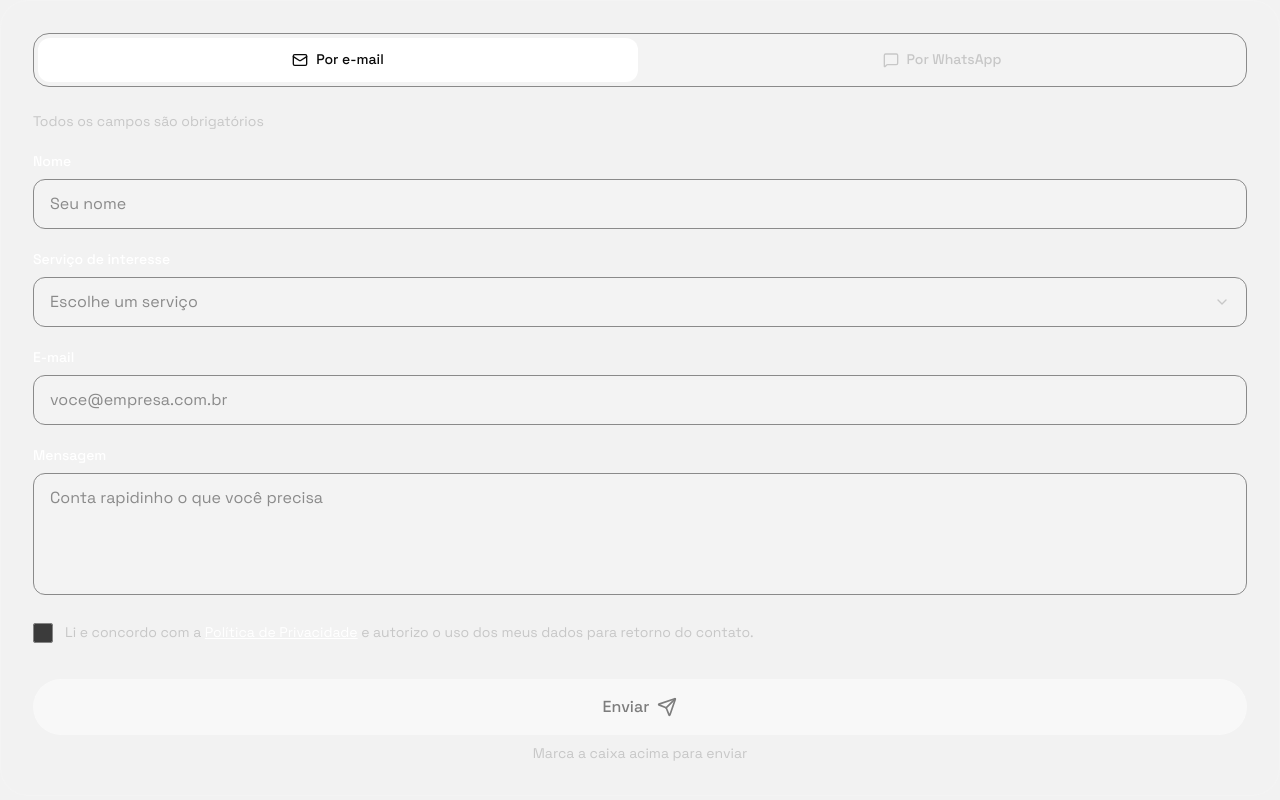
Scenario: ContactForm sending, success and error › says Enviando… and marks the button busy while the request is out
This screenshot has width=1280, height=800.
In the field labelled "Nome": (640, 204) top-left (33, 179), bottom-right (1247, 229), type "Ana Lima"
Click the button "Escolhe um serviço": click(124, 302) top-left (33, 277), bottom-right (1247, 327)
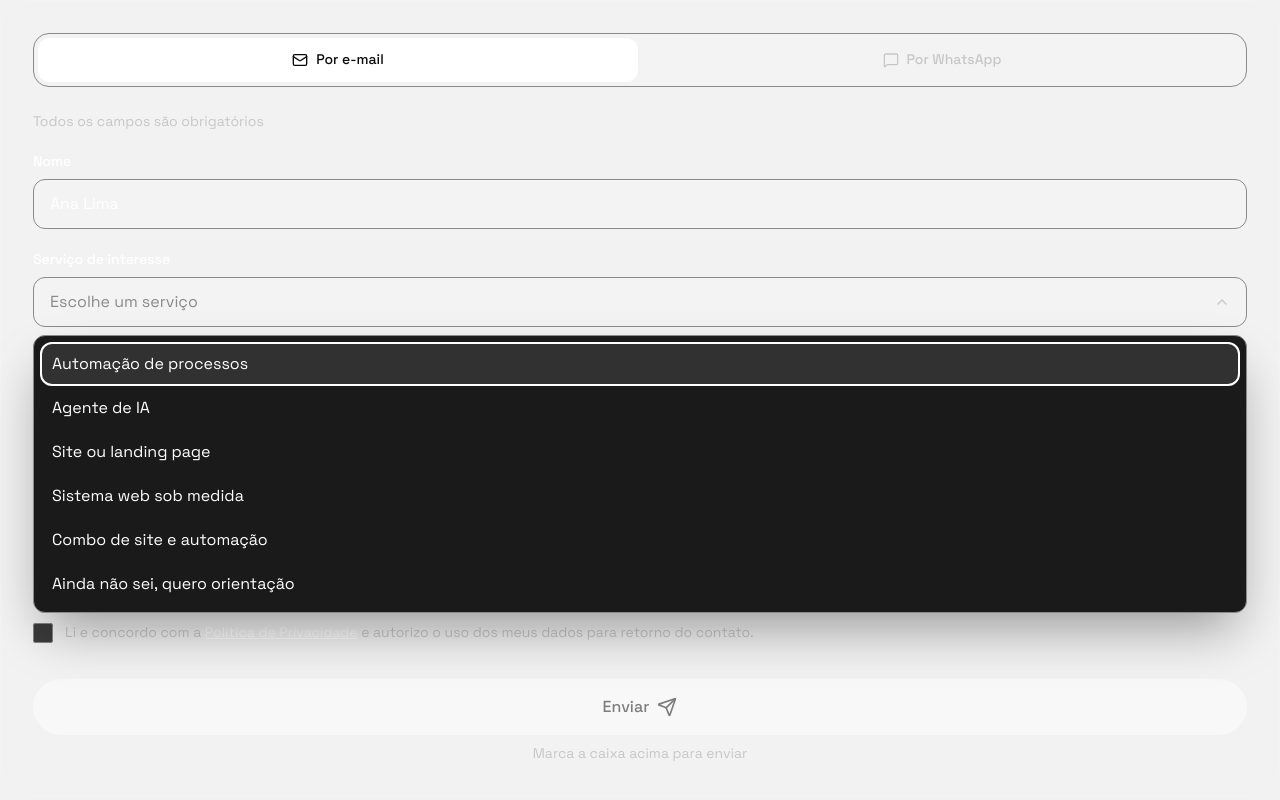
Click the option "Automação de processos": click(150, 364) top-left (40, 342), bottom-right (1240, 386)
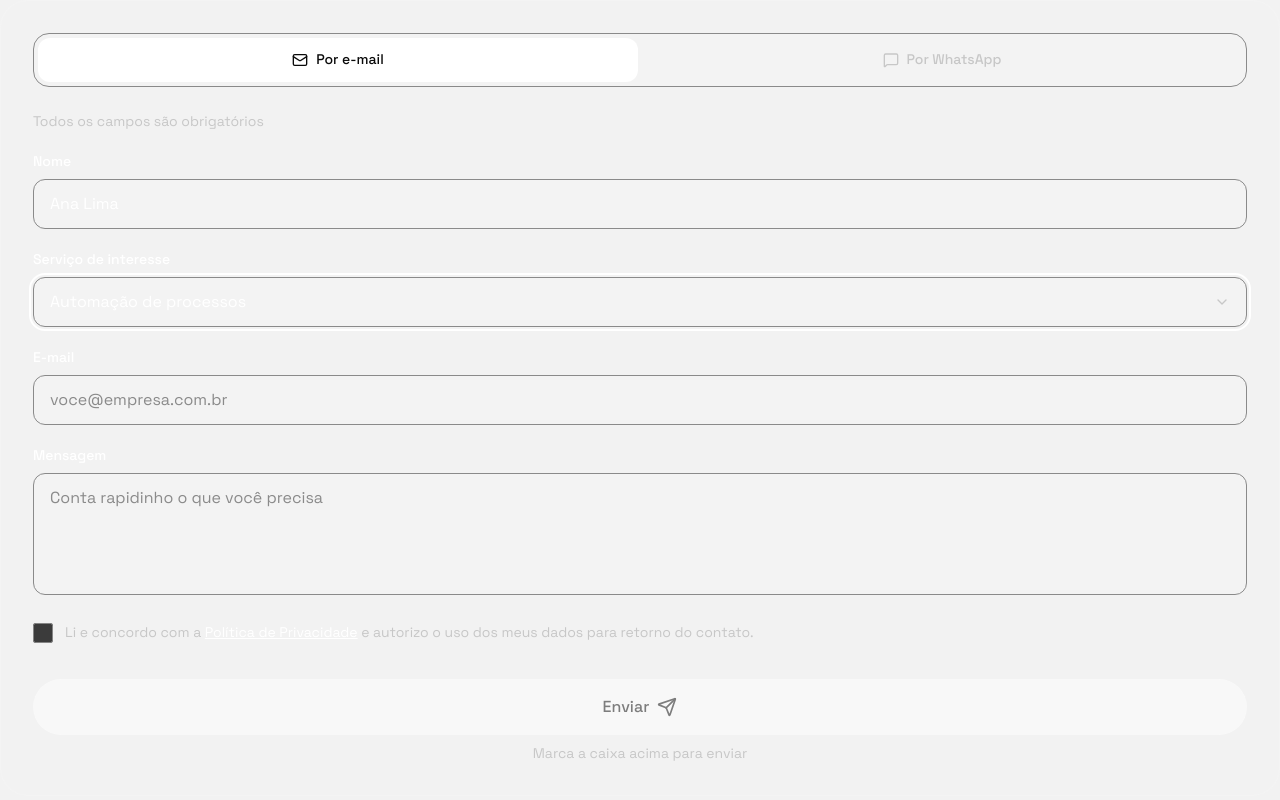
Check: the list is gone
In the field labelled "E-mail": (640, 400) top-left (33, 375), bottom-right (1247, 425), type "ana@example.com"
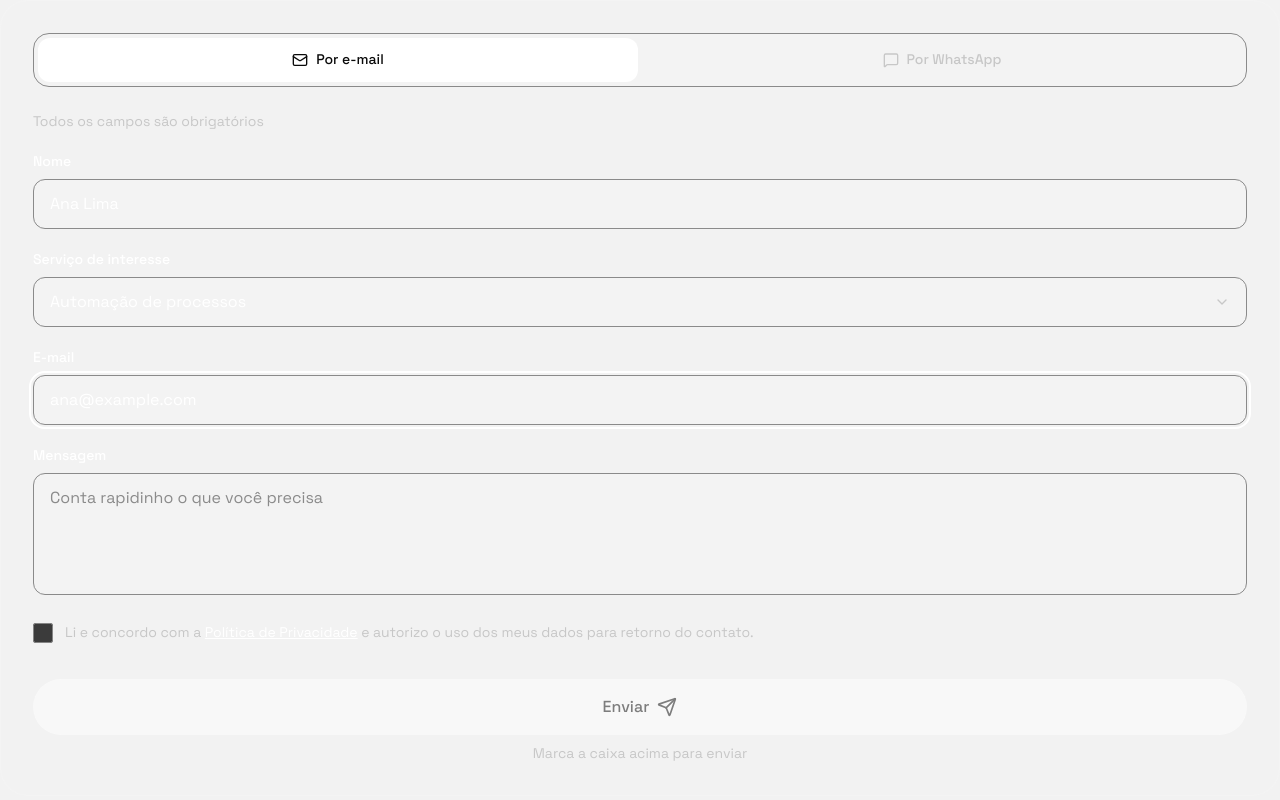
In the text box labelled "Mensagem": (640, 534) top-left (33, 473), bottom-right (1247, 595), type "Quero automatizar notas fiscais"
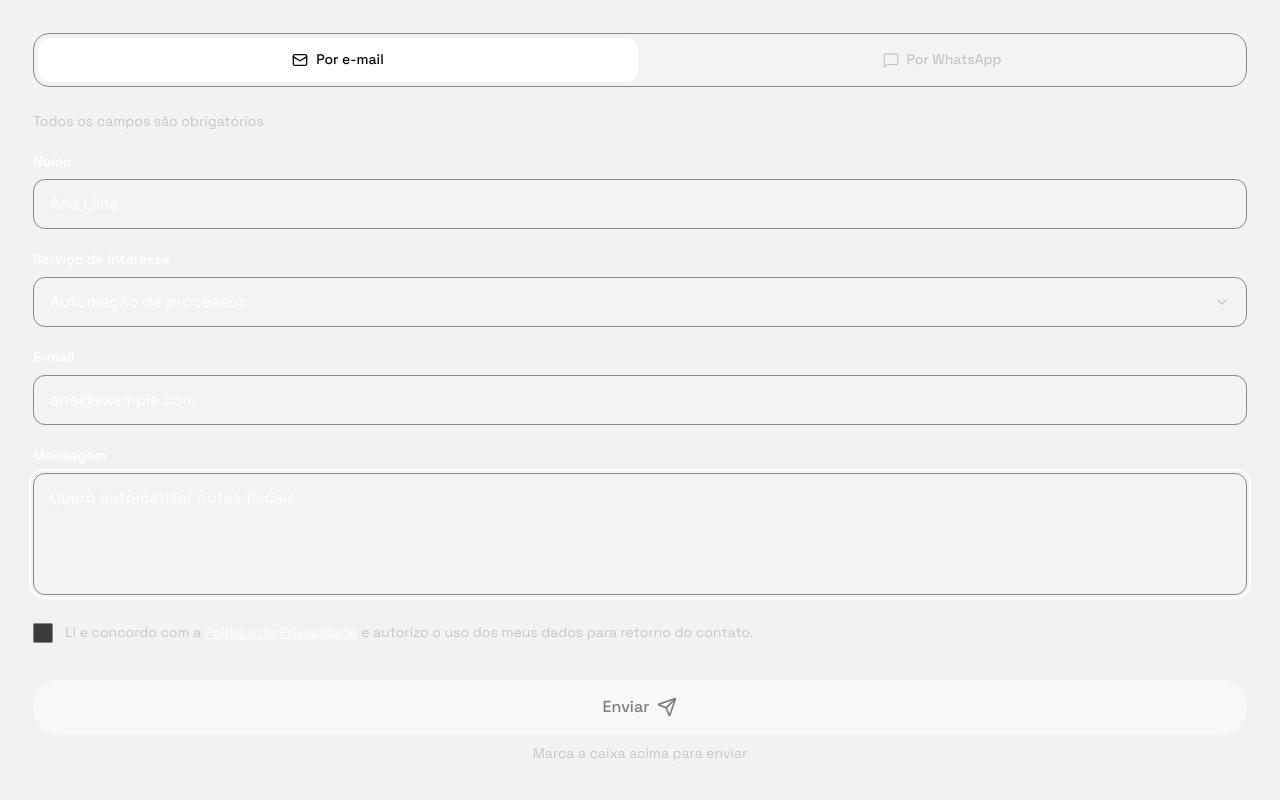
Click the checkbox: click(43, 633) top-left (33, 623), bottom-right (53, 643)
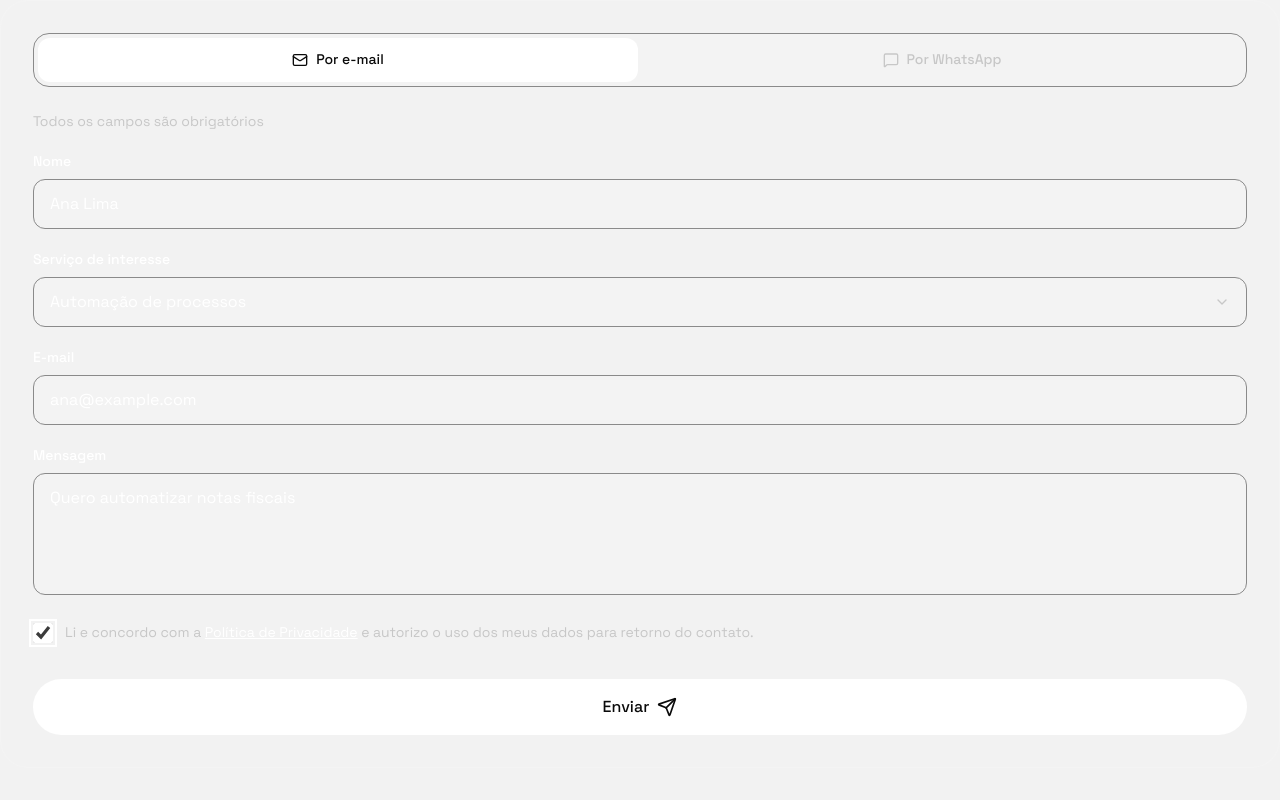
Click the button "Enviar": click(640, 707) top-left (33, 679), bottom-right (1247, 735)
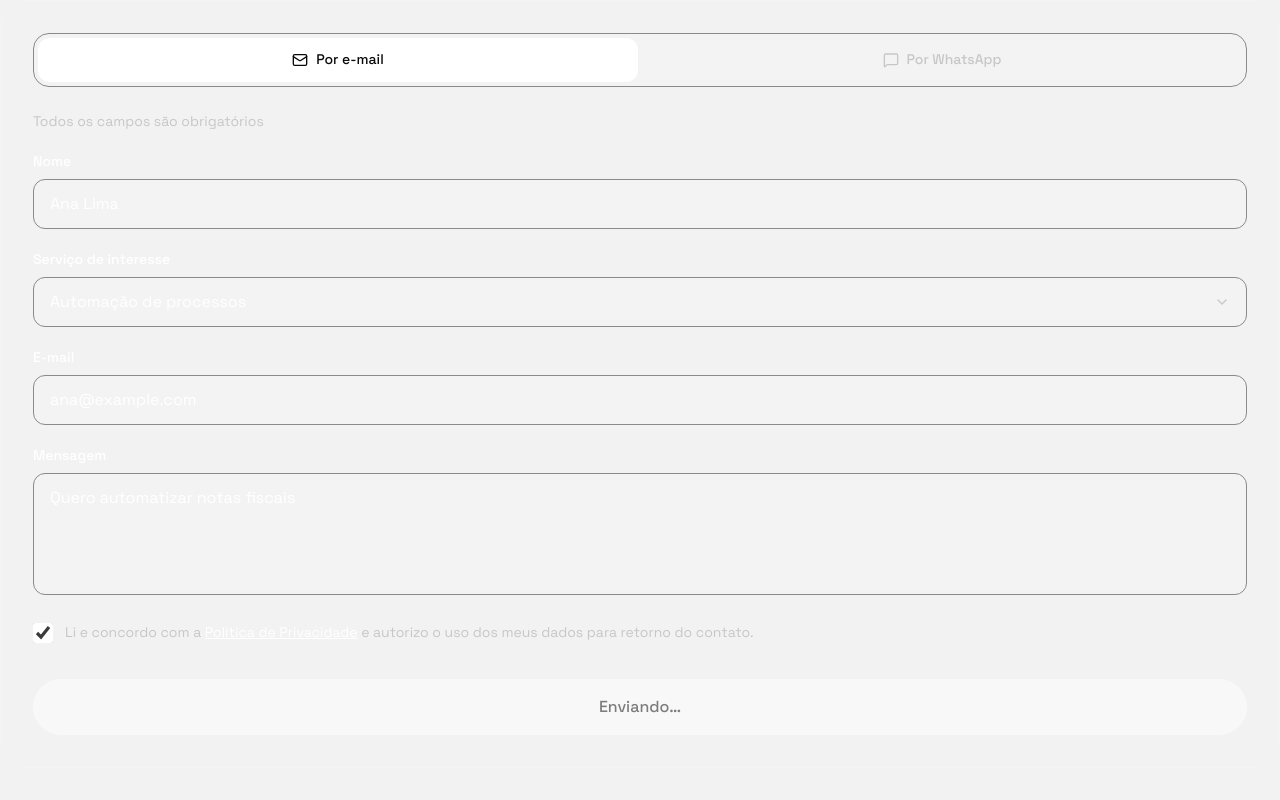
Check: the button "Enviando…" is disabled, box top-left (33, 679), bottom-right (1247, 735)
